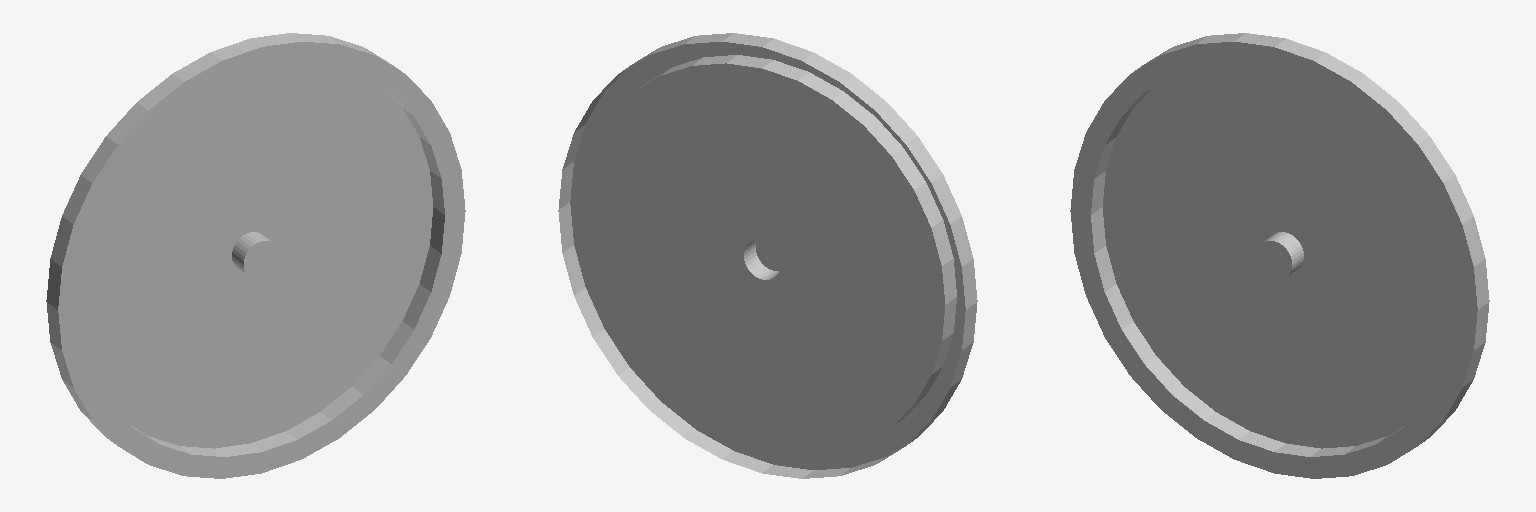
Rendered from speedometer.obj.
3 views of the same model, side by side, from view 1: azimuth 30°, elevation 25°; view 2: azimuth 150°, elevation 25°; view 3: azimuth 330°, elevation 25° (orthographic).
Parts seen in each view (by area): view 1: Circle; view 2: Circle; view 3: Circle.
Part boxes in pixels (bbox=[...]): Circle: bbox=[46, 33, 465, 478]; Circle: bbox=[558, 33, 977, 478]; Circle: bbox=[1070, 33, 1489, 478].
Bounding box in the file's own units: 0.2 × 0.2 × 0.01.